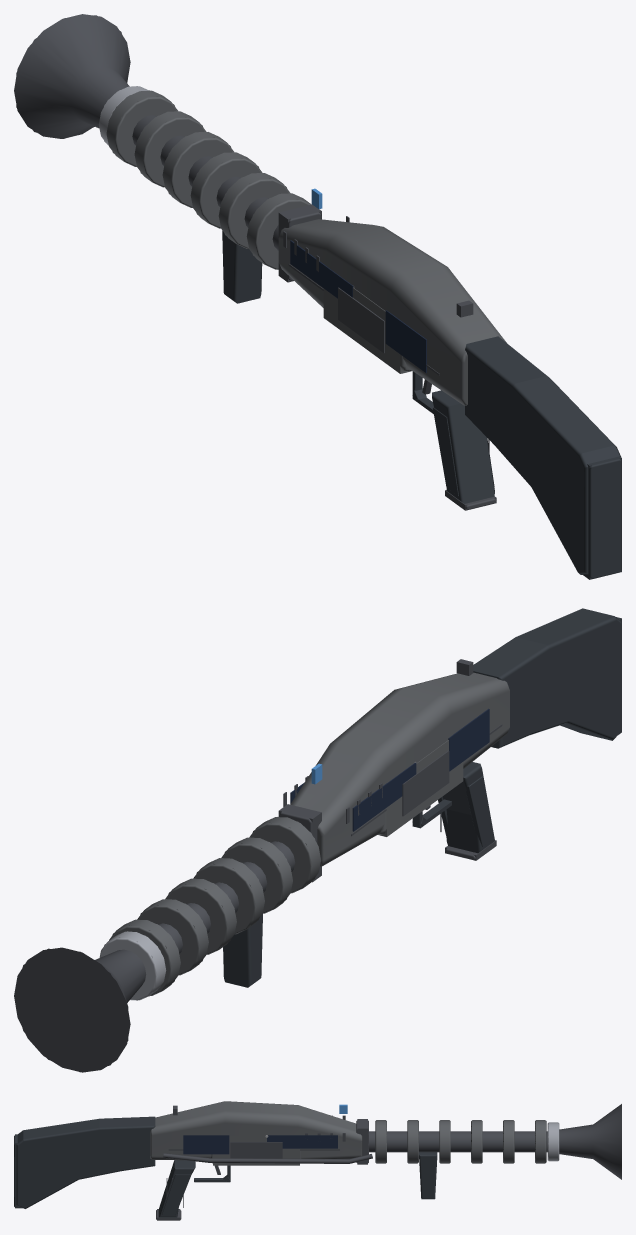
The model's file is e_ioncan.glb.
3 views of the same model, one above another, from view 1: azimuth 30°, elevation 25°; view 2: azimuth 150°, elevation 25°; view 3: azimuth 270°, elevation 25° (orthographic). The views are drawn at different scales.
Visible parts, largest first — view 1: L0, L1; view 2: L0, L1; view 3: L0, L1.
Boxes of the visible parts, x1,y1,x2,y2 form: L0: (14,14,621,579); L1: (16,15,621,579); L0: (14,608,621,1072); L1: (14,617,621,1072); L0: (14,1101,621,1219); L1: (15,1105,621,1220).
Bounding box in the file's own units: 0.132 × 0.2115 × 1.05.
